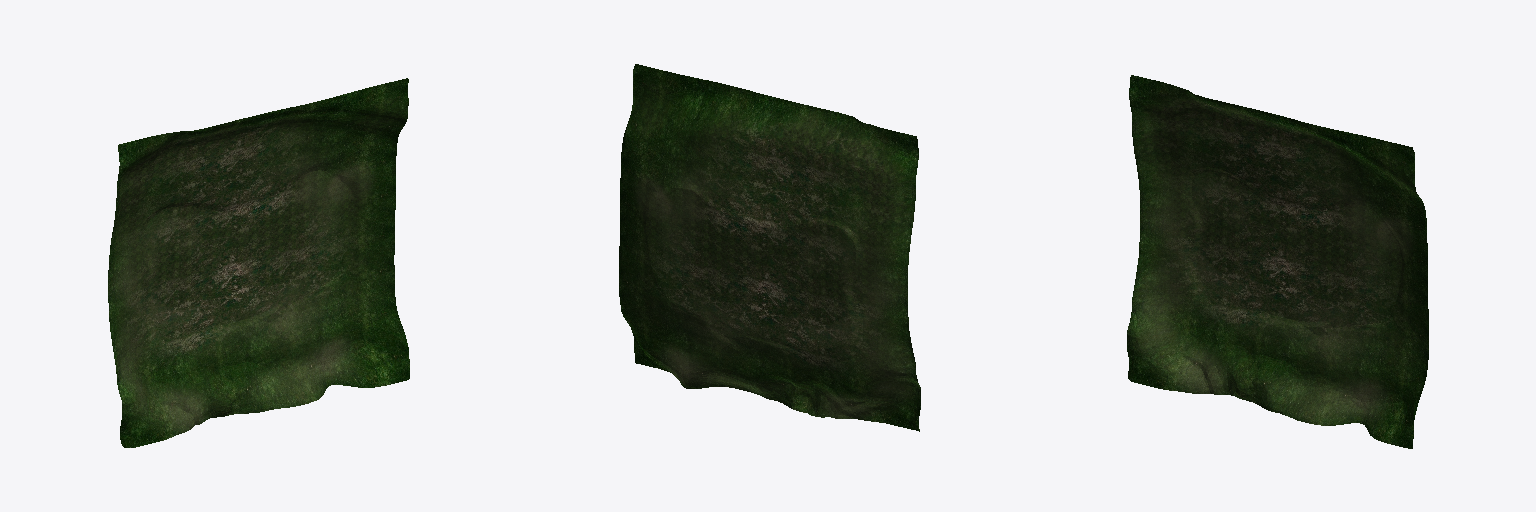
3 views of the same model, side by side, from view 1: azimuth 30°, elevation 25°; view 2: azimuth 150°, elevation 25°; view 3: azimuth 330°, elevation 25° (orthographic).
Parts seen in each view (by area): view 1: Terrain_Mesh_2_0_2_0; view 2: Terrain_Mesh_2_0_2_0; view 3: Terrain_Mesh_2_0_2_0.
Boxes of the visible parts, x1=… form: Terrain_Mesh_2_0_2_0: x1=108, y1=78, x2=409, y2=447; Terrain_Mesh_2_0_2_0: x1=619, y1=64, x2=920, y2=431; Terrain_Mesh_2_0_2_0: x1=1127, y1=75, x2=1428, y2=448.
Size of the model in its own units: 1 by 1 by 0.1459.
1 materials, 1 textured.